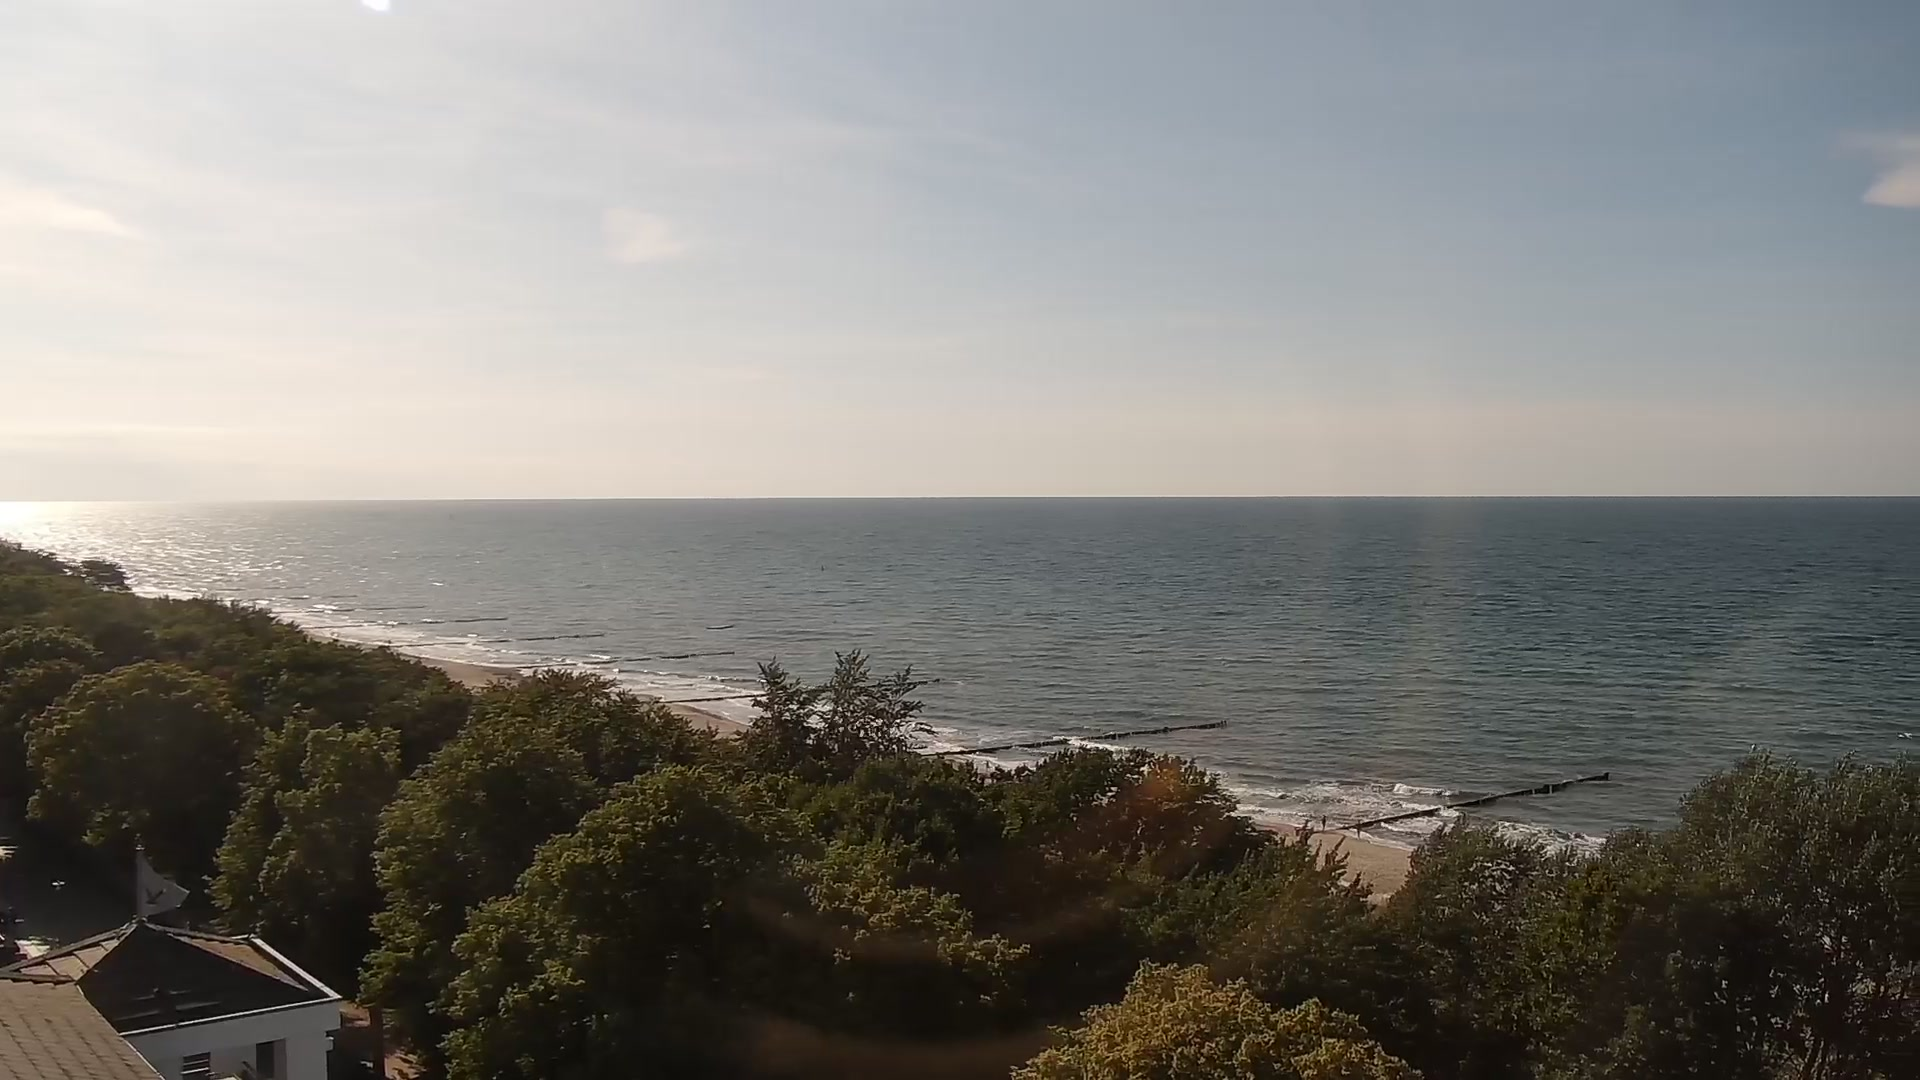human: (1356, 820, 1362, 838), (1320, 814, 1326, 830)
